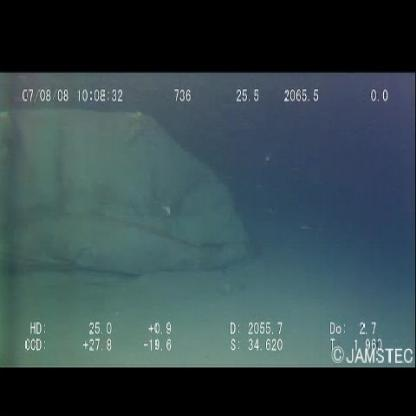Rác: (1, 99, 262, 296)
